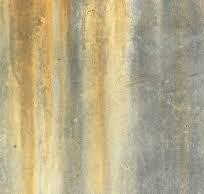Corrosion: (1, 1, 70, 194), (80, 1, 132, 194)
